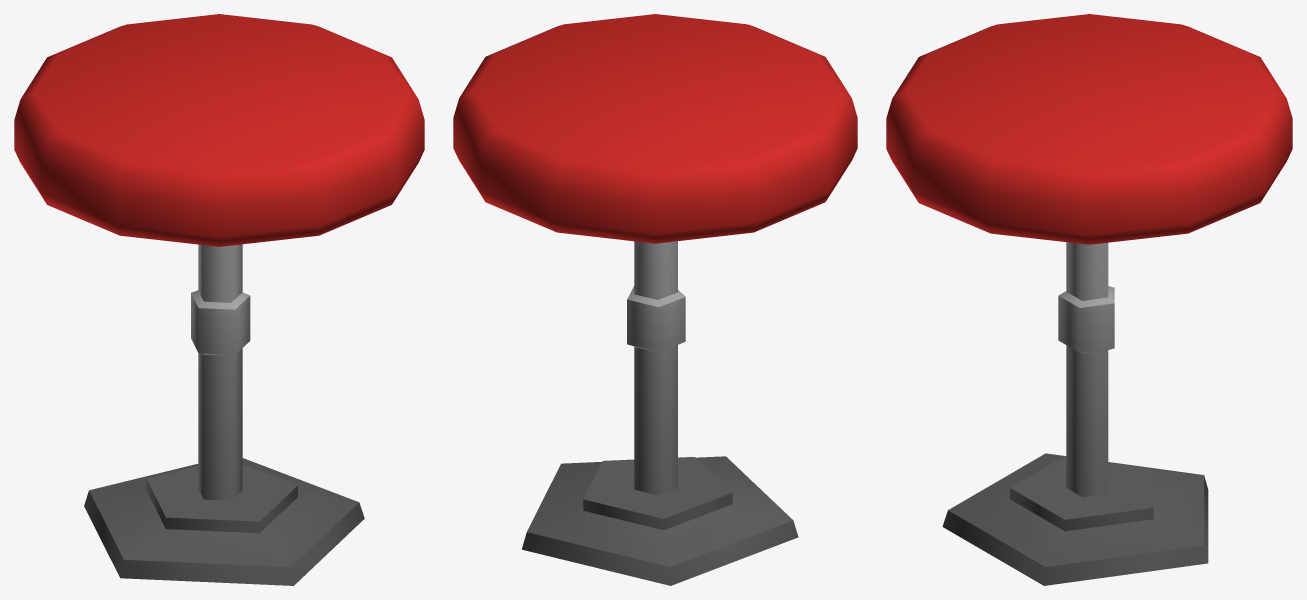
Rendered from Chair_3_A.fbx.
The picture shows the model from 3 angles, left to right: view 1: azimuth 30°, elevation 25°; view 2: azimuth 150°, elevation 25°; view 3: azimuth 270°, elevation 25°; orthographic projection.
Parts seen in each view (by area): view 1: Chair_3_A; view 2: Chair_3_A; view 3: Chair_3_A.
Part boxes in pixels (<box>): Chair_3_A: <box>14,14,424,585</box>; Chair_3_A: <box>453,14,857,585</box>; Chair_3_A: <box>886,14,1292,585</box>.
Size of the model in its own units: 50.02 by 59.1 by 50.04.
